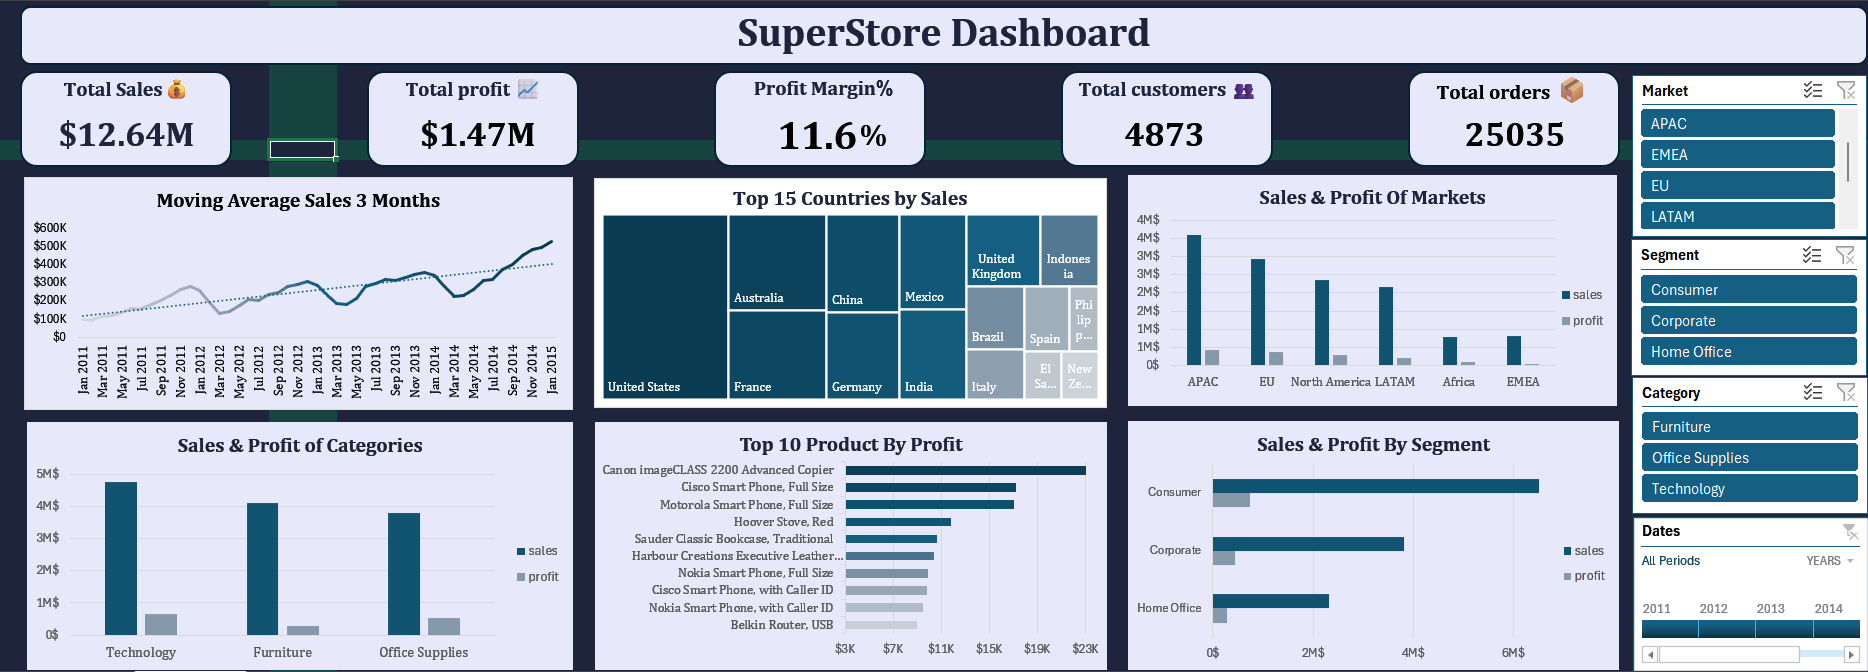

Layout of this report page (visuals, bound fields, positions):
{"tool":"powerbi","page":{"name":"Executive","canvas":[2005,1200],"ordinal":1},"visuals":[{"type":"shape","box":[21.9,126.7,305.6,193],"z":0},{"type":"shape","box":[96.5,0,904.8,100.5],"z":1000},{"type":"shape","box":[435.6,126.7,305.6,193],"z":2000},{"type":"shape","box":[589.1,458.4,721.4,89.4],"z":3000},{"type":"shape","box":[849.3,126.7,305.6,193],"z":4000},{"type":"shape","box":[24.1,353.9,1300.9,386.1],"z":5000},{"type":"shape","box":[1349.2,353.9,637.4,386.1],"z":6000},{"type":"shape","box":[1263.1,126.7,307.6,193],"z":7000},{"type":"shape","box":[1349.2,762.1,637.4,404.2],"z":8000},{"type":"shape","box":[1678.8,126.7,307.6,193],"z":9000},{"type":"shape","box":[687.7,762.1,637.4,404.2],"z":10000},{"type":"shape","box":[24.1,762.1,637.4,404.2],"z":11000},{"type":"textbox","box":[96.5,0,677.6,100.5],"z":12000},{"type":"cardVisual","fields":{"Data":["_Measures.Total Sales"]},"box":[22.1,126.7,301.6,162.9],"z":13000},{"type":"cardVisual","fields":{"Data":["_Measures.Total Profit"]},"box":[437.2,125.8,300.7,166.3],"z":14000},{"type":"cardVisual","fields":{"Data":["_Measures.Profit Margin"]},"box":[839,126.4,326.5,165.7],"z":15000},{"type":"cardVisual","fields":{"Data":["_Measures.Total Orders"]},"box":[1266.2,126.4,304.5,165.7],"z":16000},{"type":"cardVisual","fields":{"Data":["_Measures.Total Customers"]},"box":[1662.8,126.4,336.2,165.7],"z":17000},{"type":"lineChart","title":"How have sales evolved over time?","fields":{"Category":["public dim_date.year_month"],"Y":["_Measures.Total Sales"],"Y2":["_Measures.Moving_Average_3_Months"]},"box":[22.6,353.7,1296.7,385.7],"z":18000},{"type":"lineStackedColumnComboChart","title":"Which markets generate the highest sales and profit margins?","fields":{"Category":["public dim_location.market_region"],"Y":["_Measures.Total Sales"],"Y2":["_Measures.Profit Margin"]},"box":[1347.2,353.9,639.4,386.1],"z":19000},{"type":"treemap","title":"Where is the company''s revenue generated?","fields":{"Group":["public product_dim.category"],"Values":["_Measures.Total Sales"]},"box":[1349.2,762.1,639.4,404.2],"z":20000},{"type":"funnel","title":"Which business areas contribute the most to company profit?","fields":{"Category":["public product_dim.category"],"Y":["_Measures.Profit Contribution"]},"box":[683.2,762.7,641,405],"z":21000},{"type":"scatterChart","title":"Which business areas deliver the best balance between sales and profit?","fields":{"Series":["public product_dim.category"],"Size":["_Measures.Total Profit"],"X":["_Measures.Total Sales"],"Y":["_Measures.Total Profit"]},"box":[22.1,762.1,639.4,404.2],"z":22000},{"type":"shape","box":[1048.8,4.1,939.8,100.8],"z":23000},{"type":"slicer","title":"Analyze Performance By","fields":{"Values":["Analyzed By.Analyzed By"]},"box":[1048.8,8.2,600.5,92.5],"z":24000},{"type":"image","box":[1650.8,8,113.1,92.5],"z":26000},{"type":"cardVisual","fields":{"Data":["_Measures.YoY Sales Label"]},"box":[0,260,343.3,58.1],"z":28000},{"type":"cardVisual","fields":{"Data":["_Measures.YoY Profit Label"]},"box":[414.2,259.4,343.3,58.1],"z":29000},{"type":"cardVisual","fields":{"Data":["_Measures.YoY Profit Margin Label"]},"box":[830.4,261.4,343.3,58.1],"z":30000},{"type":"cardVisual","fields":{"Data":["_Measures.YoY Orders Label"]},"box":[1244.6,259.4,343.3,58.1],"z":31000},{"type":"cardVisual","fields":{"Data":["_Measures.YoY Customers Label"]},"box":[1660.9,261.4,343.3,58.1],"z":32000},{"type":"cardVisual","fields":{"Data":["_Measures.Selected Year"]},"box":[758,8,249.3,92.5],"z":34000},{"type":"actionButton","box":[0,0,82.4,104.6],"z":35000},{"type":"actionButton","box":[1777.5,22.1,193,72.4],"z":35001}]}

Visuals, with their boxes on the page's 2005x1200 design canvas (x1, y1, x2, y2). These are canvas units, not pixel positions in the 1868x672 screenshot, which may show the page scaled, cropped or inside an application window:
shape: <bbox>22, 127, 328, 320</bbox>
shape: <bbox>96, 0, 1001, 100</bbox>
shape: <bbox>436, 127, 741, 320</bbox>
shape: <bbox>589, 458, 1310, 548</bbox>
shape: <bbox>849, 127, 1155, 320</bbox>
shape: <bbox>24, 354, 1325, 740</bbox>
shape: <bbox>1349, 354, 1987, 740</bbox>
shape: <bbox>1263, 127, 1571, 320</bbox>
shape: <bbox>1349, 762, 1987, 1166</bbox>
shape: <bbox>1679, 127, 1986, 320</bbox>
shape: <bbox>688, 762, 1325, 1166</bbox>
shape: <bbox>24, 762, 662, 1166</bbox>
textbox: <bbox>96, 0, 774, 100</bbox>
cardVisual - _Measures.Total Sales: <bbox>22, 127, 324, 290</bbox>
cardVisual - _Measures.Total Profit: <bbox>437, 126, 738, 292</bbox>
cardVisual - _Measures.Profit Margin: <bbox>839, 126, 1166, 292</bbox>
cardVisual - _Measures.Total Orders: <bbox>1266, 126, 1571, 292</bbox>
cardVisual - _Measures.Total Customers: <bbox>1663, 126, 1999, 292</bbox>
"How have sales evolved over time?" lineChart: <bbox>23, 354, 1319, 739</bbox>
"Which markets generate the highest sales and profit margins?" lineStackedColumnComboChart: <bbox>1347, 354, 1987, 740</bbox>
"Where is the company''s revenue generated?" treemap: <bbox>1349, 762, 1989, 1166</bbox>
"Which business areas contribute the most to company profit?" funnel: <bbox>683, 763, 1324, 1168</bbox>
"Which business areas deliver the best balance between sales and profit?" scatterChart: <bbox>22, 762, 662, 1166</bbox>
shape: <bbox>1049, 4, 1989, 105</bbox>
"Analyze Performance By" slicer: <bbox>1049, 8, 1649, 101</bbox>
image: <bbox>1651, 8, 1764, 100</bbox>
cardVisual - _Measures.YoY Sales Label: <bbox>0, 260, 343, 318</bbox>
cardVisual - _Measures.YoY Profit Label: <bbox>414, 259, 758, 318</bbox>
cardVisual - _Measures.YoY Profit Margin Label: <bbox>830, 261, 1174, 320</bbox>
cardVisual - _Measures.YoY Orders Label: <bbox>1245, 259, 1588, 318</bbox>
cardVisual - _Measures.YoY Customers Label: <bbox>1661, 261, 2004, 320</bbox>
cardVisual - _Measures.Selected Year: <bbox>758, 8, 1007, 100</bbox>
actionButton: <bbox>0, 0, 82, 105</bbox>
actionButton: <bbox>1778, 22, 1970, 94</bbox>
